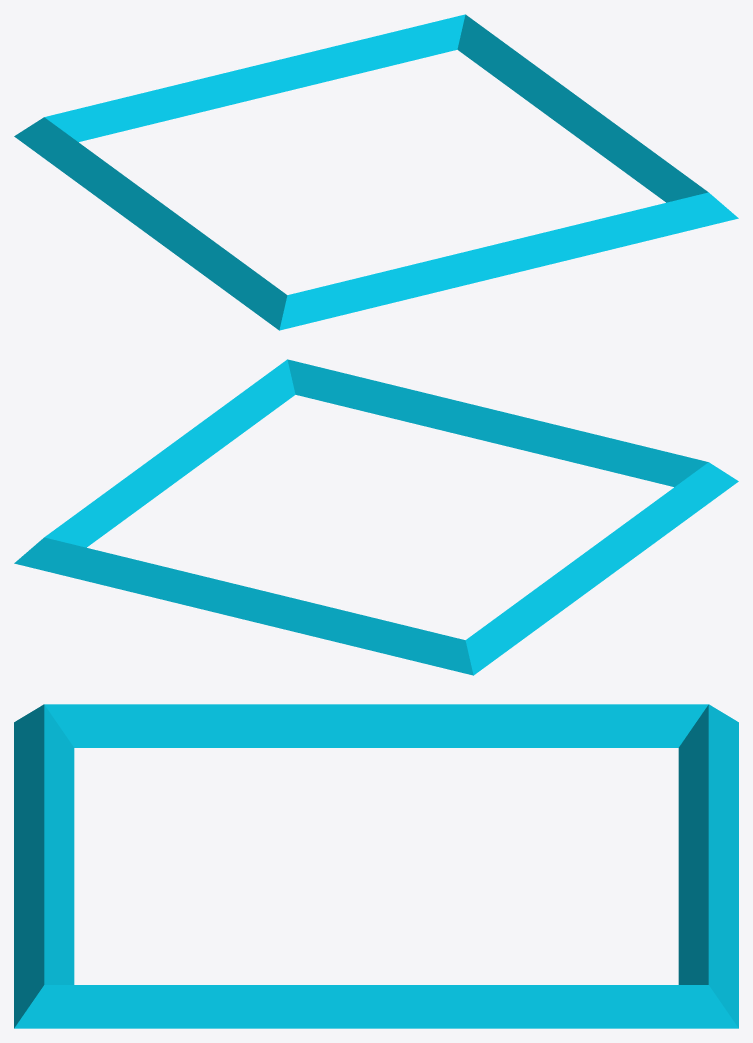
The model's file is Highlight.dae.
3 renders of one model, top to bottom at view 1: azimuth 30°, elevation 25°; view 2: azimuth 150°, elevation 25°; view 3: azimuth 270°, elevation 25°, orthographic. The views are drawn at different scales.
Parts seen in each view (by area): view 1: Torus; view 2: Torus; view 3: Torus.
Boxes of the visible parts, x1,y1,x2,y2 form: Torus: [14, 14, 738, 330]; Torus: [14, 359, 738, 675]; Torus: [14, 704, 738, 1028].
Bounding box in the file's own units: 1.06 × 1.06 × 0.05.
